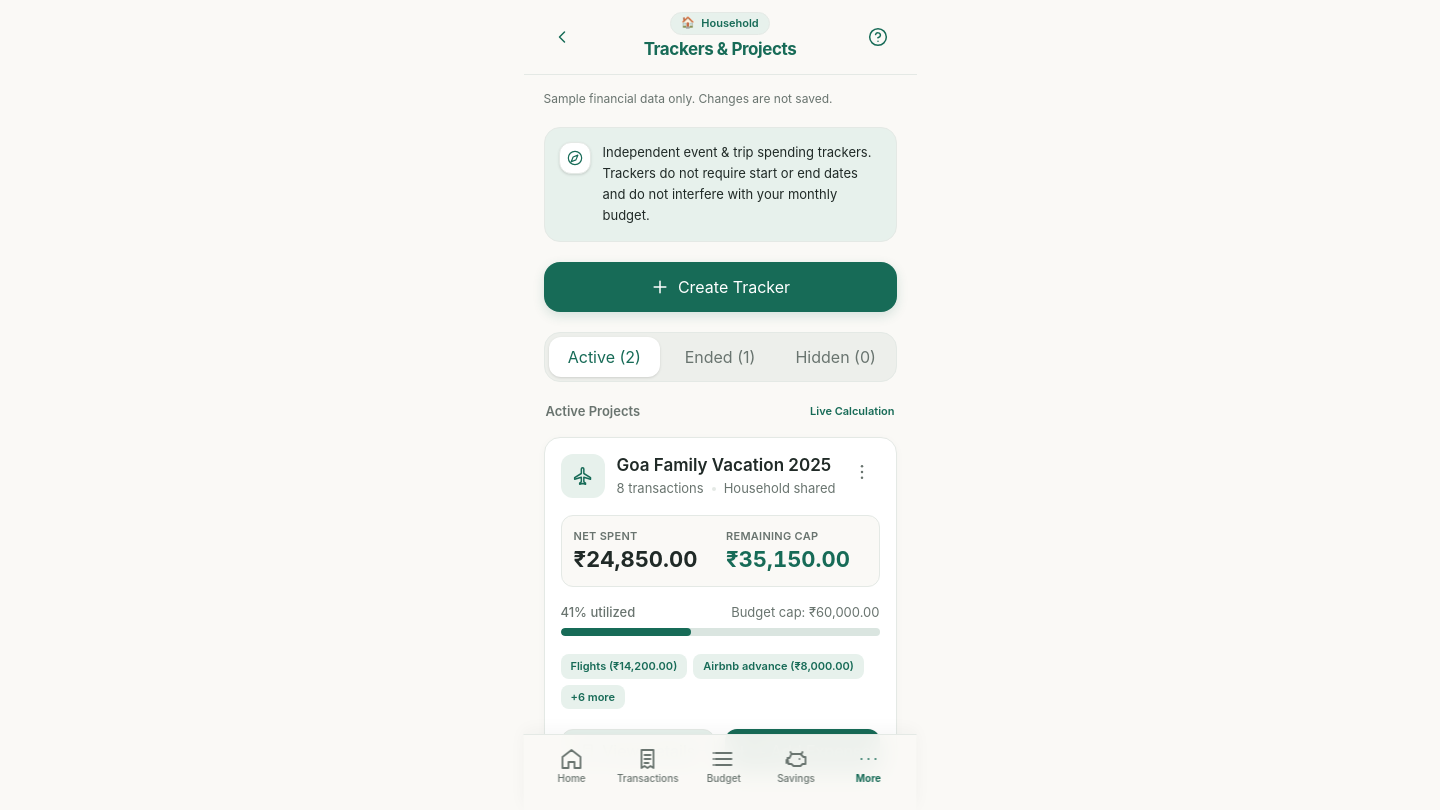
TrackersScreen rendering › shows mock banner when Create Tracker is clicked
What coordinates should you click on to do the following:
click the button "Create Tracker"
I would click on:
 (720, 286)
Its box is [544,262,896,312].
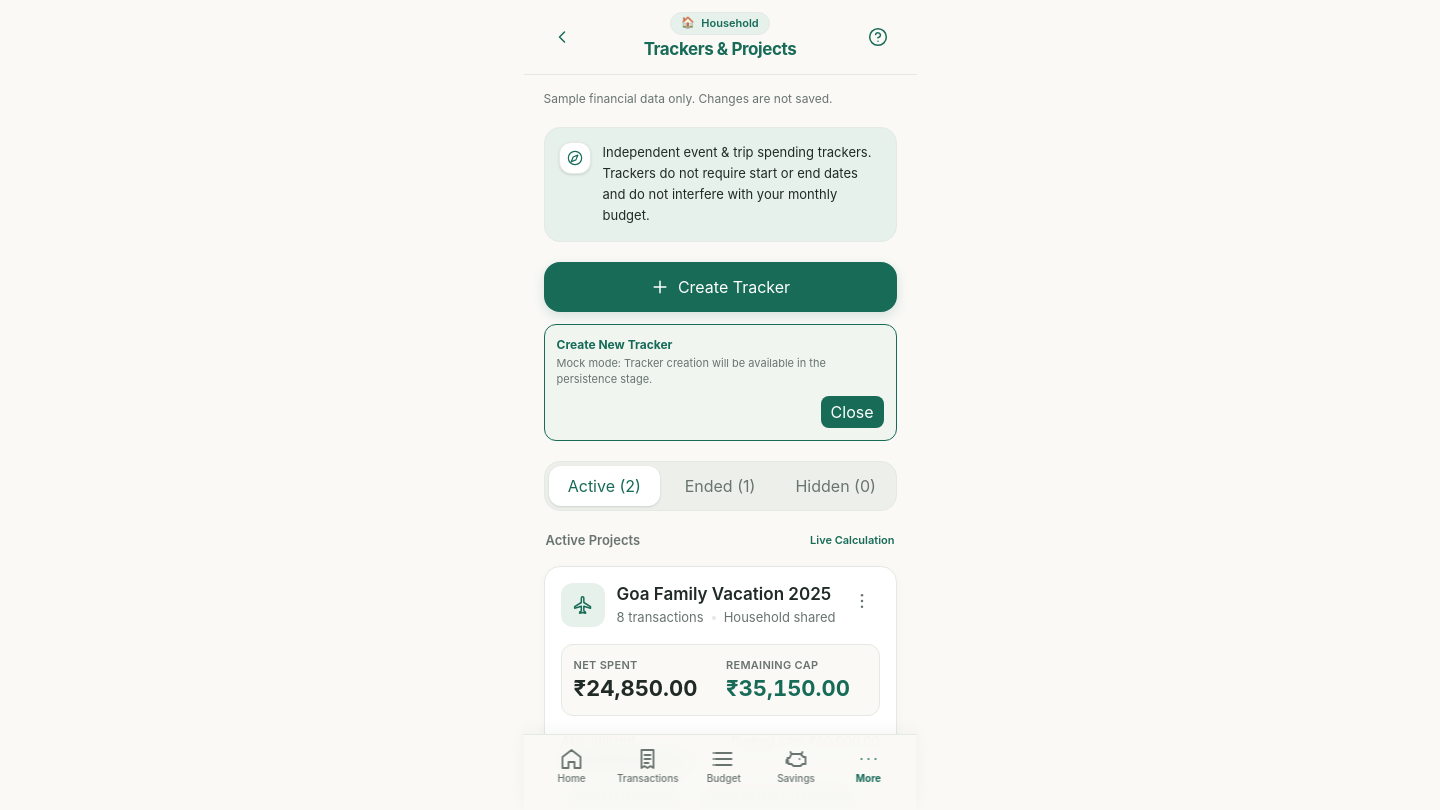
Expected: the heading "Create New Tracker" is shown, [556,336,672,352]
